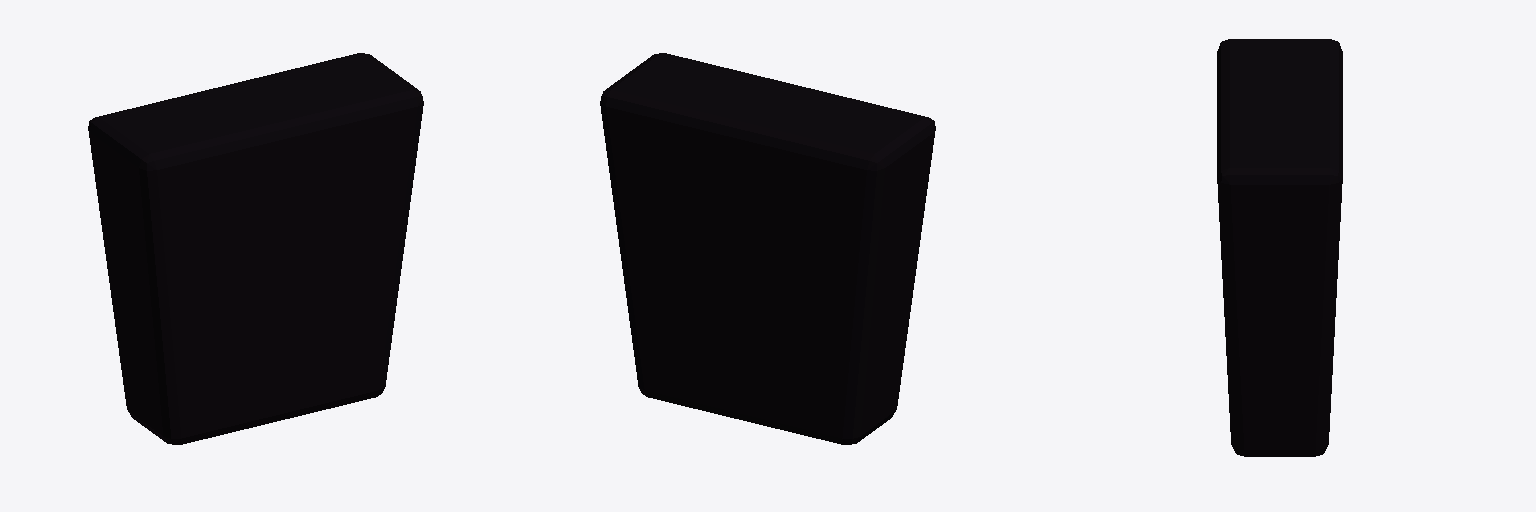
The model's file is CubeGrave2.obj.
The picture shows the model from 3 angles: view 1: azimuth 30°, elevation 25°; view 2: azimuth 150°, elevation 25°; view 3: azimuth 270°, elevation 25°; orthographic projection.
Visible parts, largest first — view 1: Plane.005; view 2: Plane.005; view 3: Plane.005.
Boxes of the visible parts, x1=… form: Plane.005: x1=88, y1=53, x2=423, y2=444; Plane.005: x1=600, y1=53, x2=935, y2=444; Plane.005: x1=1217, y1=39, x2=1342, y2=456.
Size of the model in its own units: 1.77 by 1.82 by 0.6785.